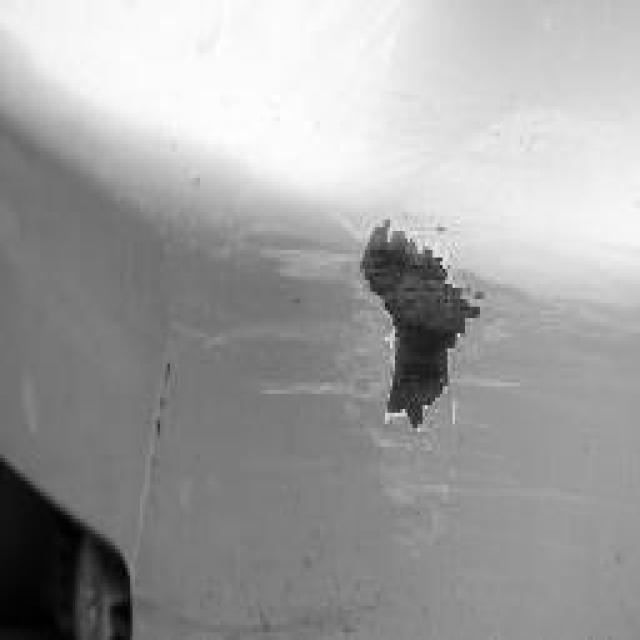Bumper: (310, 125, 512, 587)
